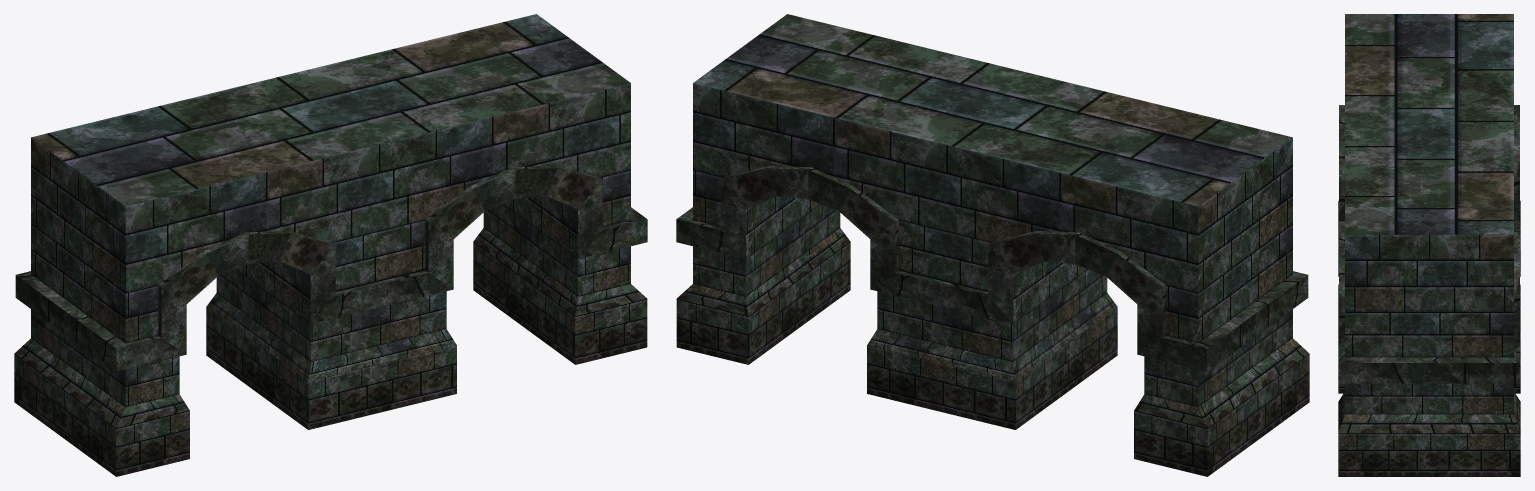
File: SM_CastleBridgeOpening2x1.fbx
3 views of the same model, side by side, from view 1: azimuth 30°, elevation 25°; view 2: azimuth 150°, elevation 25°; view 3: azimuth 270°, elevation 25° (orthographic). The views are drawn at different scales.
Parts seen in each view (by area): view 1: SM_CastleBridgeOpening2x1; view 2: SM_CastleBridgeOpening2x1; view 3: SM_CastleBridgeOpening2x1.
Part boxes in pixels (x1=…): SM_CastleBridgeOpening2x1: x1=14, y1=14, x2=647, y2=476; SM_CastleBridgeOpening2x1: x1=676, y1=14, x2=1309, y2=476; SM_CastleBridgeOpening2x1: x1=1338, y1=14, x2=1520, y2=476.
Size of the model in its own units: 4208 by 2000 by 1398.
